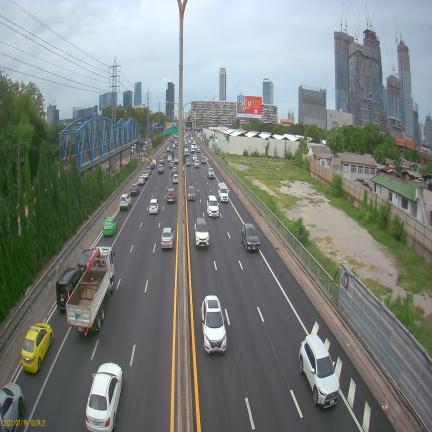car: (299, 334, 339, 407), (86, 363, 123, 432), (201, 295, 226, 354), (0, 382, 24, 431), (241, 223, 260, 251), (194, 218, 209, 248), (77, 248, 95, 271), (161, 227, 174, 249), (207, 195, 219, 217), (119, 193, 131, 210), (149, 198, 159, 214), (166, 188, 175, 203), (130, 183, 140, 195), (187, 186, 195, 200), (207, 167, 214, 179), (137, 175, 145, 185), (172, 173, 178, 184), (172, 166, 178, 176), (143, 171, 149, 180), (149, 161, 155, 169), (159, 156, 164, 165), (192, 153, 197, 161), (194, 160, 199, 168), (146, 166, 151, 174), (167, 154, 172, 162), (185, 146, 189, 156), (191, 143, 195, 153), (170, 150, 174, 159), (170, 160, 174, 169), (186, 159, 191, 166), (201, 157, 206, 164), (196, 146, 201, 152), (162, 150, 166, 157), (166, 147, 170, 154), (175, 139, 178, 145), (138, 188, 139, 193), (104, 227, 105, 230), (71, 292, 71, 293)
taxi: (21, 323, 53, 373), (103, 217, 117, 236)
truck: (66, 245, 115, 335), (218, 183, 229, 202), (158, 164, 163, 174), (174, 155, 179, 164), (191, 144, 195, 153)
van: (56, 268, 83, 309), (191, 144, 195, 153)
